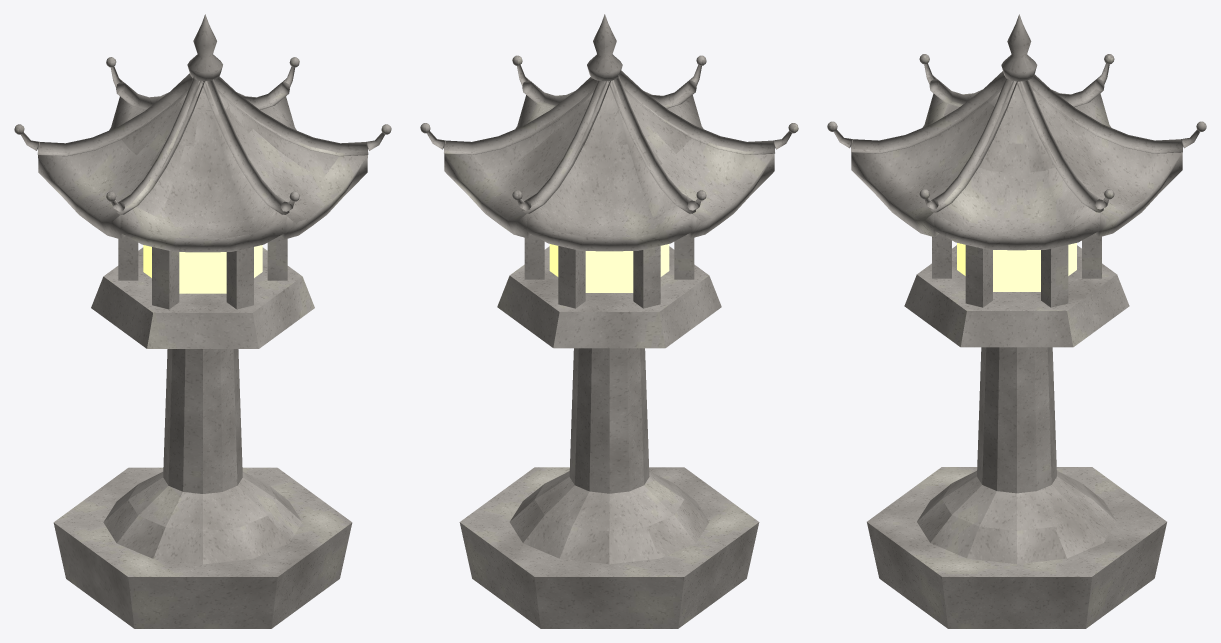
File: stone_lantern.glb
3 renders of one model, left to right at view 1: azimuth 30°, elevation 25°; view 2: azimuth 150°, elevation 25°; view 3: azimuth 270°, elevation 25°, orthographic.
Visible parts, largest first — view 1: LanternStone, LanternCap, LanternCapRidges, LanternCapOrnaments, LanternLight; view 2: LanternStone, LanternCap, LanternCapRidges, LanternCapOrnaments, LanternLight; view 3: LanternStone, LanternCap, LanternCapRidges, LanternCapOrnaments, LanternLight.
Part boxes in pixels (x1=…): LanternStone: x1=53, y1=236, x2=352, y2=628; LanternCap: x1=38, y1=81, x2=367, y2=252; LanternCapRidges: x1=37, y1=73, x2=368, y2=214; LanternCapOrnaments: x1=14, y1=14, x2=391, y2=211; LanternLight: x1=143, y1=245, x2=262, y2=293; LanternStone: x1=459, y1=235, x2=759, y2=628; LanternCap: x1=444, y1=80, x2=774, y2=251; LanternCapRidges: x1=444, y1=70, x2=774, y2=213; LanternCapOrnaments: x1=420, y1=14, x2=798, y2=210; LanternLight: x1=549, y1=244, x2=669, y2=292; LanternStone: x1=867, y1=233, x2=1166, y2=628; LanternCap: x1=851, y1=81, x2=1182, y2=250; LanternCapRidges: x1=851, y1=71, x2=1182, y2=212; LanternCapOrnaments: x1=827, y1=14, x2=1206, y2=209; LanternLight: x1=957, y1=243, x2=1076, y2=291.
Size of what is drawn, in the model's own units: 1.32 by 2.5 by 1.52.
2 materials, 1 textured.
